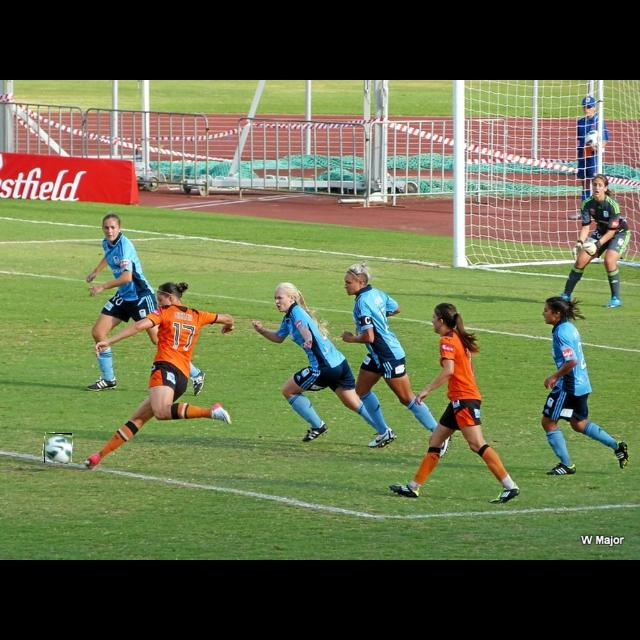Football: (44, 433, 72, 463)
